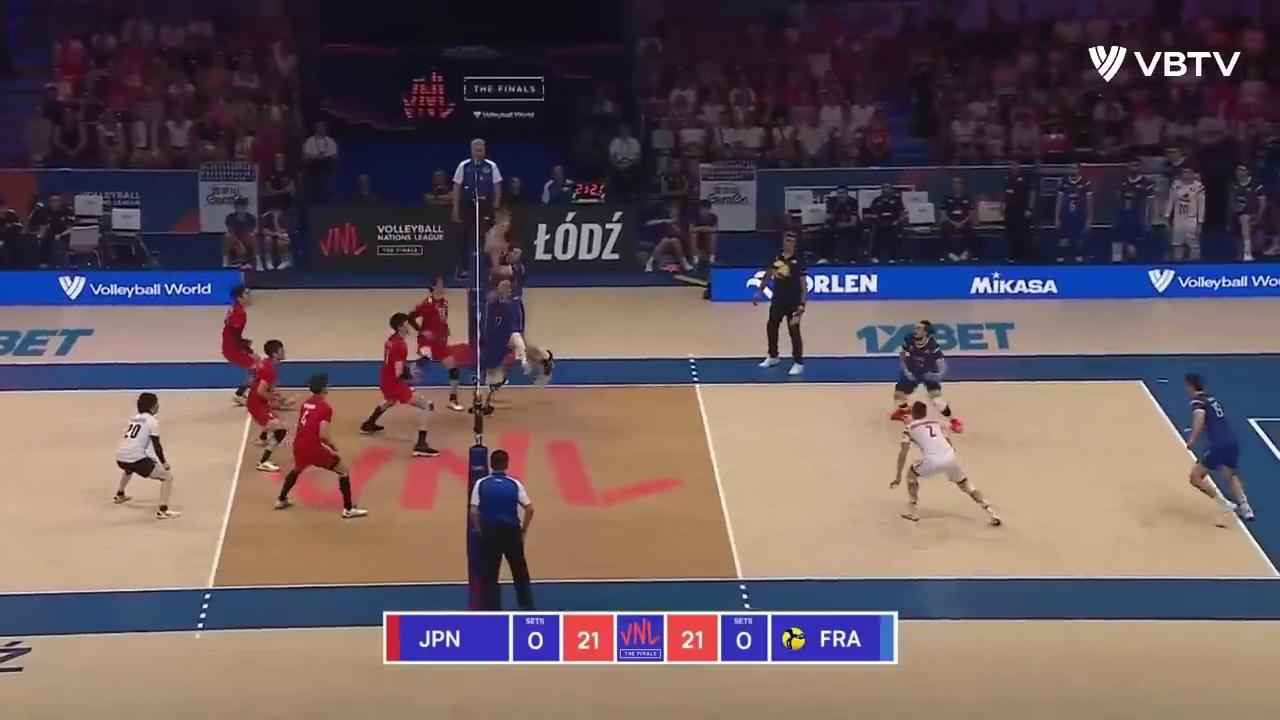ball: (772, 260, 790, 282)
